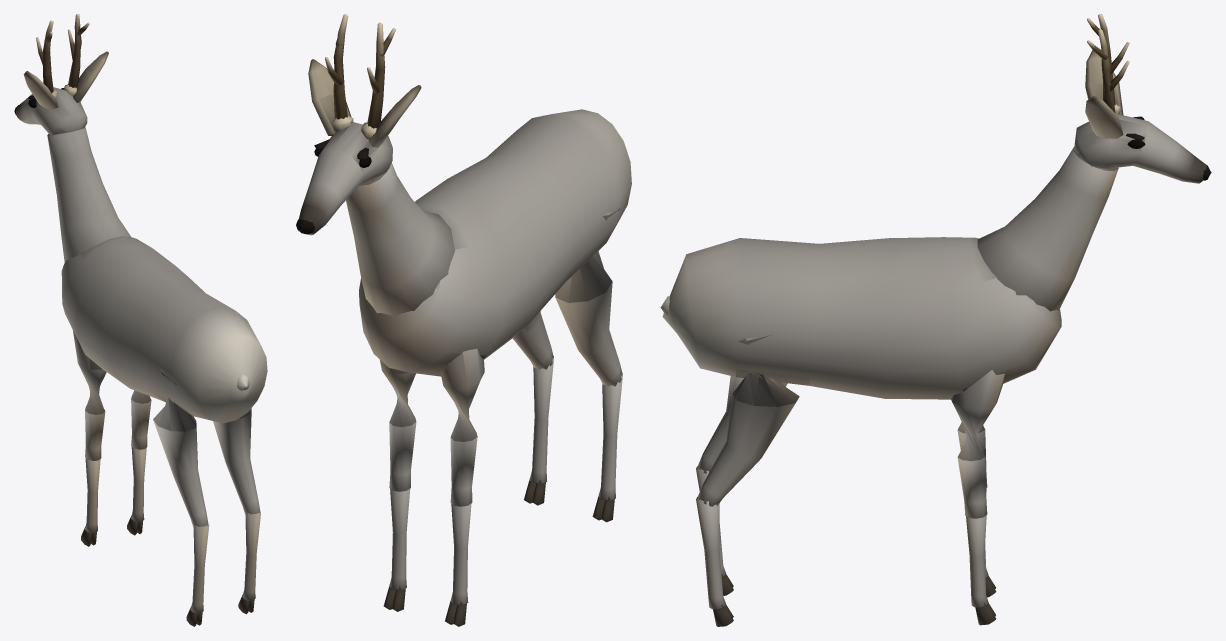
Rendered from deer.glb.
3 renders of one model, left to right at view 1: azimuth 30°, elevation 25°; view 2: azimuth 150°, elevation 25°; view 3: azimuth 270°, elevation 25°, orthographic. The views are drawn at different scales.
Visible parts, largest first — view 1: hide-body-001, hide-head-002, hide-leg_hl-006, hide-leg_hr-010, hide-leg_fl-004, plaster-antler-001, hide-shin_hl-007, hide-shin_hr-011, hide-leg_fr-008, hide-shin_fl-005, hide-shin_fr-009; view 2: hide-body-001, hide-head-002, hide-leg_hl-006, hide-leg_fl-004, plaster-antler-001, hide-leg_fr-008, hide-shin_hl-007, hide-shin_hr-011, hide-shin_fr-009, hide-shin_fl-005, hide-leg_hr-010, dark-head-001; view 3: hide-body-001, hide-head-002, hide-leg_hr-010, hide-leg_fr-008, hide-shin_hr-011, hide-shin_fr-009, plaster-antler-001, hide-leg_hl-006.
Boxes of the visible parts, bbox=[...] form: hide-body-001: bbox=[61, 236, 267, 423]; hide-head-002: bbox=[16, 51, 130, 262]; hide-leg_hl-006: bbox=[153, 367, 208, 528]; hide-leg_hr-010: bbox=[213, 408, 260, 515]; hide-leg_fl-004: bbox=[73, 330, 106, 460]; plaster-antler-001: bbox=[36, 14, 89, 99]; hide-shin_hl-007: bbox=[190, 524, 209, 613]; hide-shin_hr-011: bbox=[242, 511, 260, 600]; hide-leg_fr-008: bbox=[131, 390, 151, 449]; hide-shin_fl-005: bbox=[85, 458, 100, 533]; hide-shin_fr-009: bbox=[131, 447, 146, 522]; hide-body-001: bbox=[359, 109, 631, 376]; hide-head-002: bbox=[299, 59, 454, 317]; hide-leg_hl-006: bbox=[555, 208, 622, 386]; hide-leg_fl-004: bbox=[440, 348, 484, 506]; plaster-antler-001: bbox=[325, 14, 395, 139]; hide-leg_fr-008: bbox=[379, 359, 416, 491]; hide-shin_hl-007: bbox=[598, 373, 622, 501]; hide-shin_hr-011: bbox=[529, 356, 553, 484]; hide-shin_fr-009: bbox=[389, 489, 410, 590]; hide-shin_fl-005: bbox=[450, 503, 471, 605]; hide-leg_hr-010: bbox=[512, 311, 553, 370]; dark-head-001: bbox=[296, 139, 371, 234]; hide-body-001: bbox=[662, 237, 1061, 399]; hide-head-002: bbox=[977, 50, 1206, 311]; hide-leg_hr-010: bbox=[698, 334, 799, 506]; hide-leg_fr-008: bbox=[951, 370, 1004, 518]; hide-shin_hr-011: bbox=[696, 496, 726, 609]; hide-shin_fr-009: bbox=[966, 515, 988, 607]; plaster-antler-001: bbox=[1087, 14, 1129, 118]; hide-leg_hl-006: bbox=[698, 376, 787, 473].
Size of the model in its own units: 0.33 by 1.61 by 1.37.
